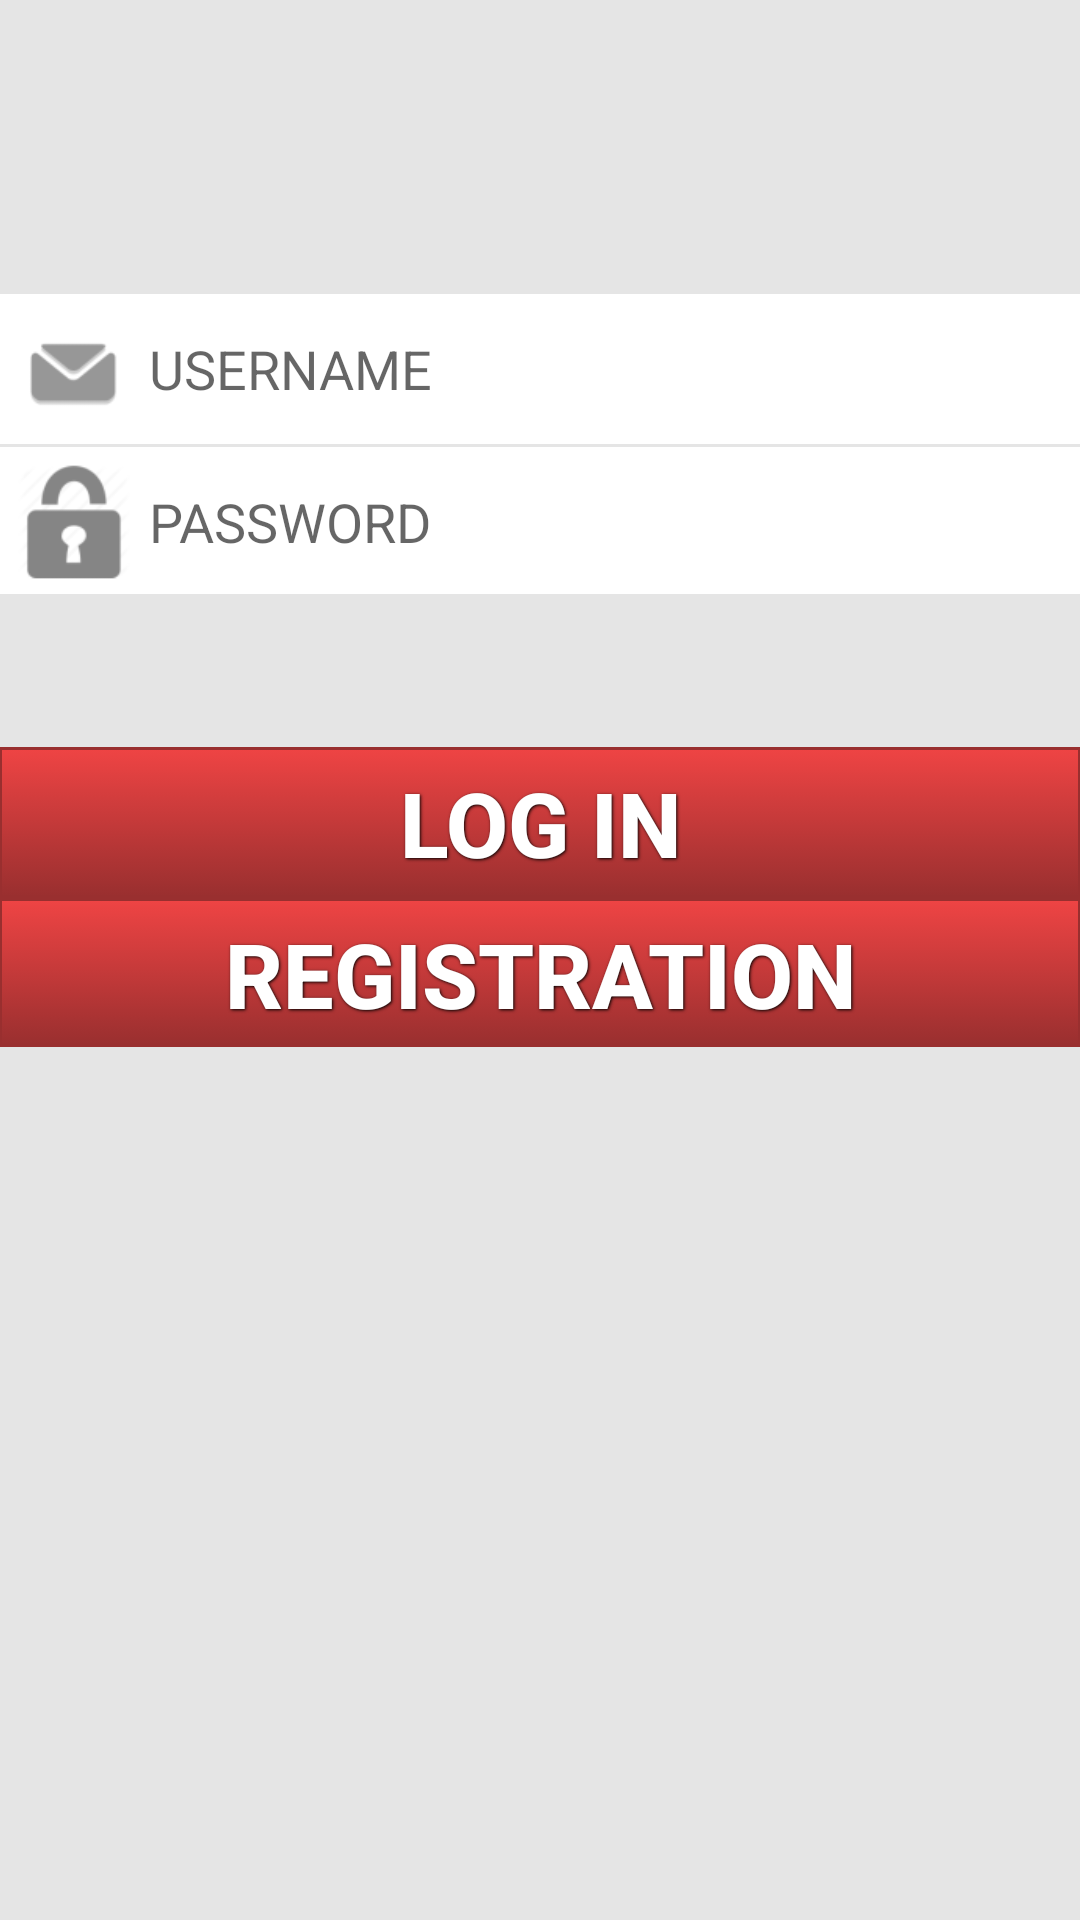

Named icons in this screenshot (1080px x 1920px) and their bounding boxes, bbox=(x1, y1, x2, y2):
envelope: bbox=(30, 344, 116, 404)
